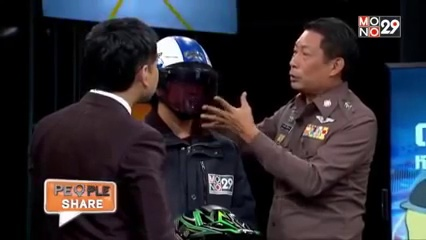helmet: (157, 31, 226, 114)
